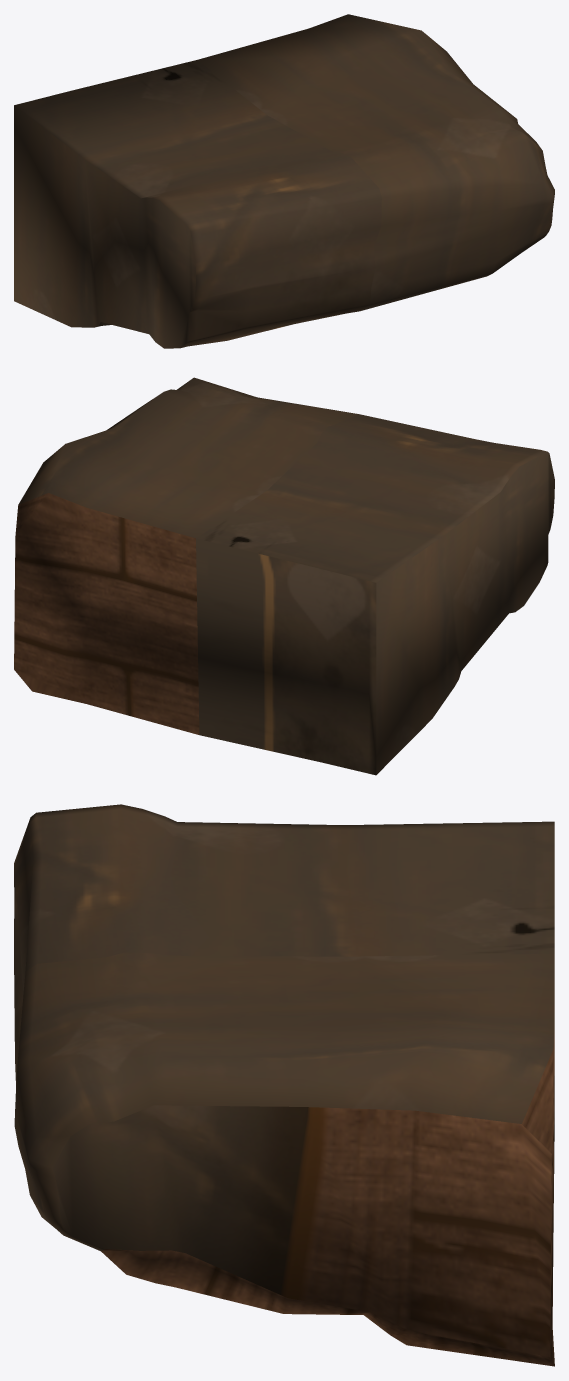
The model's file is Platforms floor RIGHT EDGE.fbx.
3 views of the same model, one above another, from view 1: azimuth 30°, elevation 25°; view 2: azimuth 150°, elevation 25°; view 3: azimuth 270°, elevation 25° (orthographic). The views are drawn at different scales.
Visible parts, largest first — view 1: LP++; view 2: LP++; view 3: LP++.
Boxes of the visible parts, x1,y1,x2,y2 form: LP++: [14, 14, 554, 348]; LP++: [14, 377, 554, 775]; LP++: [14, 804, 554, 1366].
Bounding box in the file's own units: 254 × 138 × 207.
